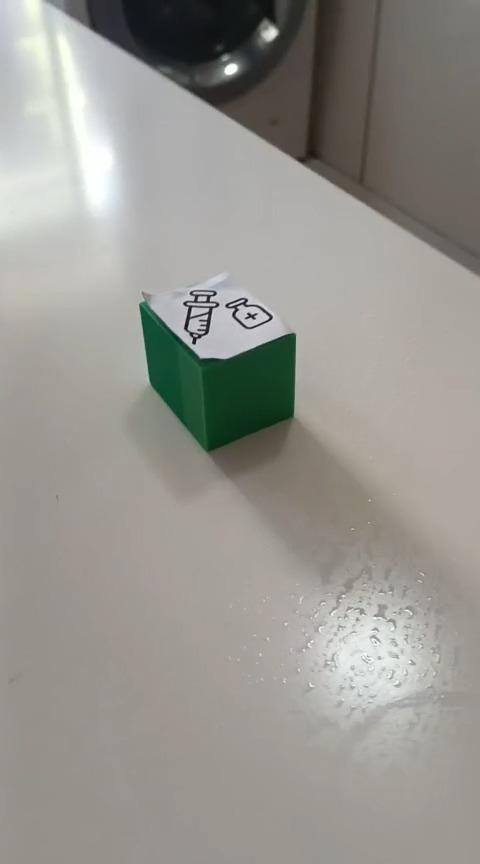antiseptic cream: (137, 269, 297, 453)
